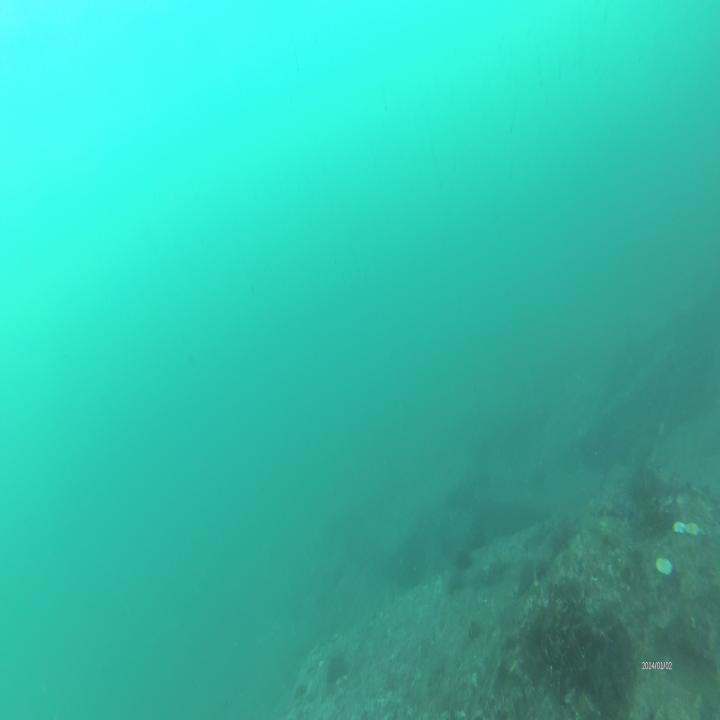echinus: (547, 512, 574, 550), (326, 657, 346, 682), (454, 547, 472, 572)
